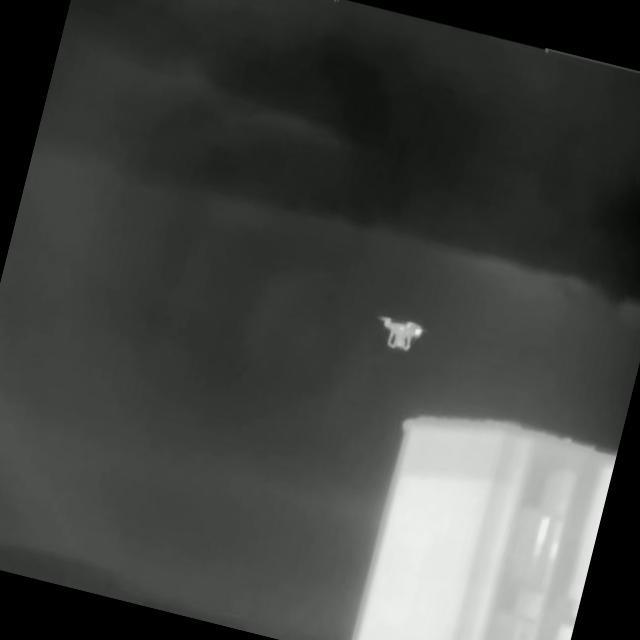DRONE: (376, 311, 429, 351)
